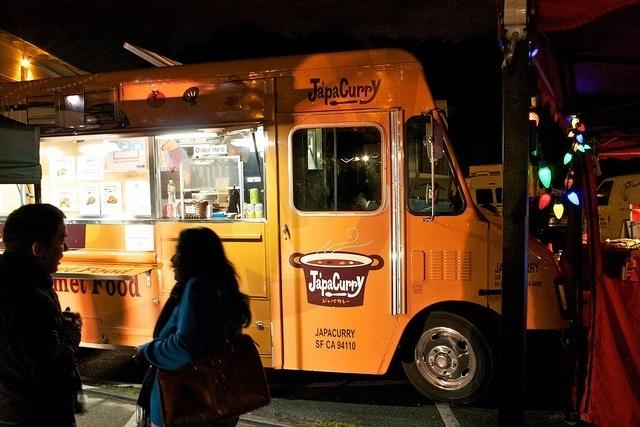car: (596, 173, 640, 242)
